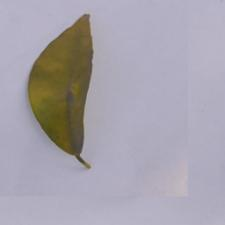Greening: (26, 20, 100, 152)
